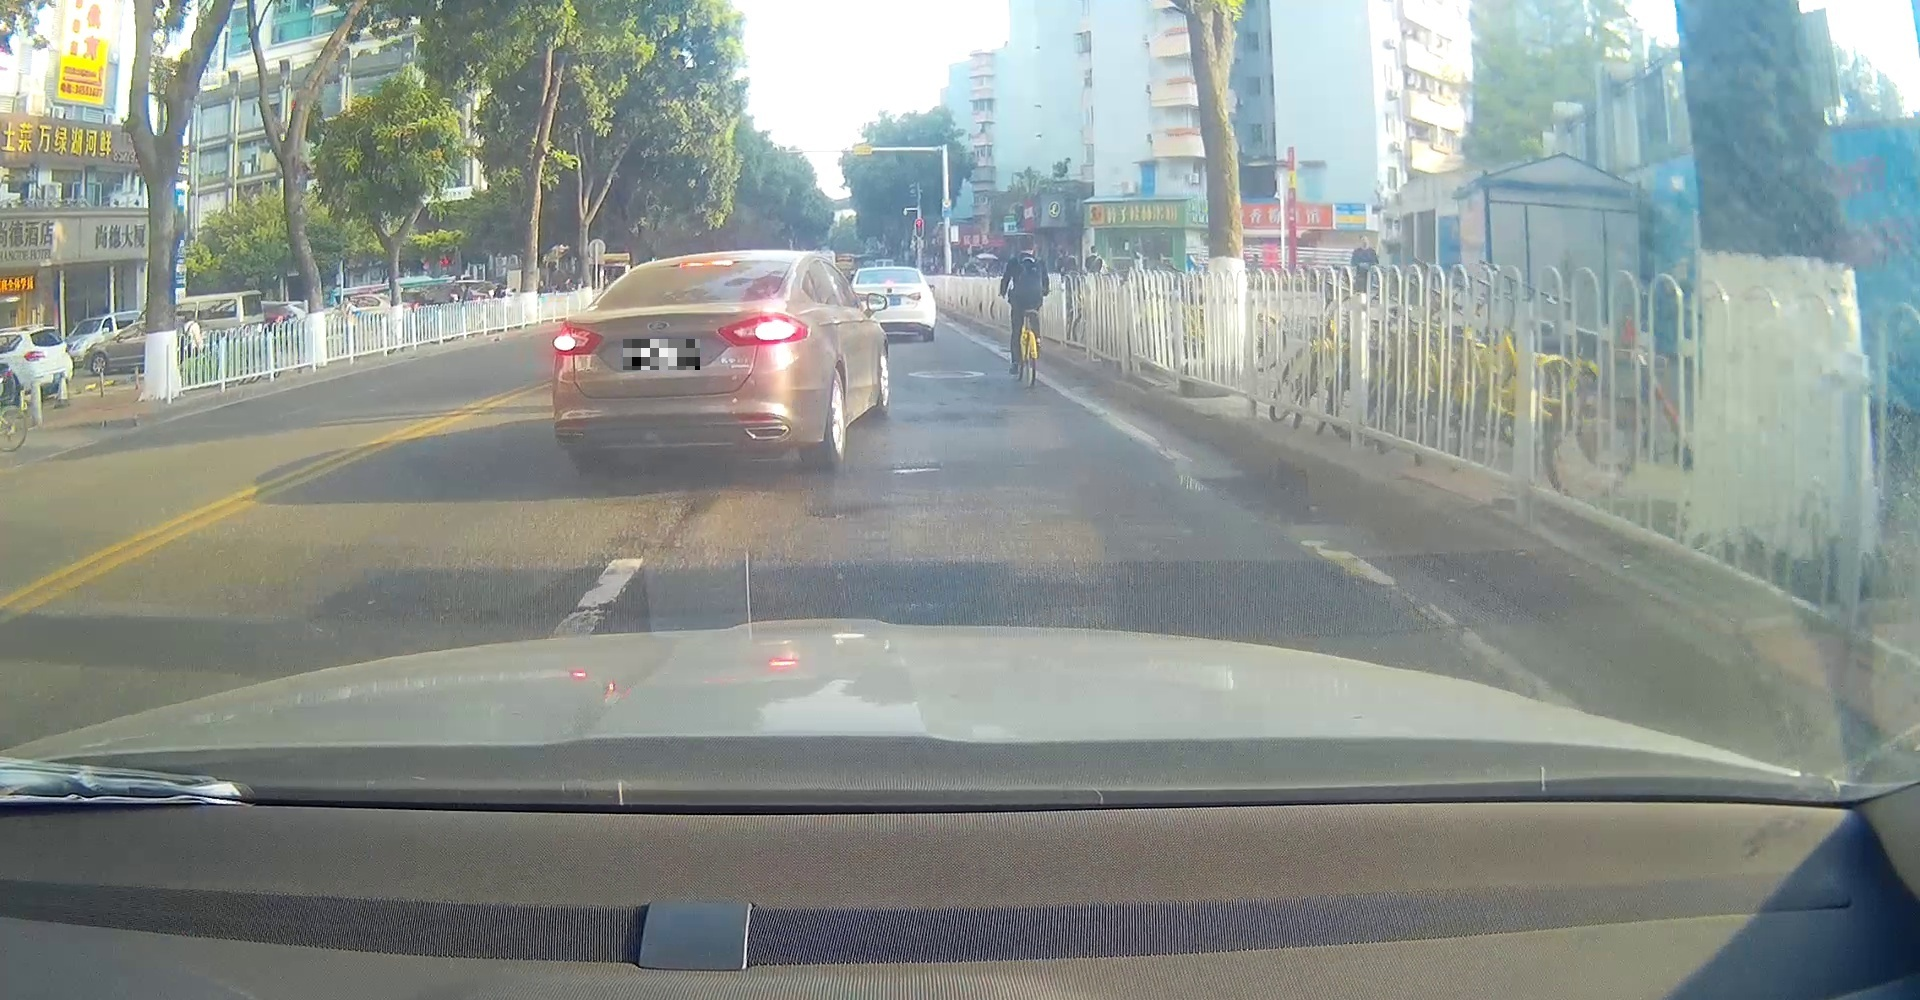L_light: (552, 324, 603, 357)
R_light: (717, 311, 811, 348)
T_light: (678, 260, 733, 266)
day-brake: (552, 251, 811, 470)
plate_1: (623, 339, 700, 371)
